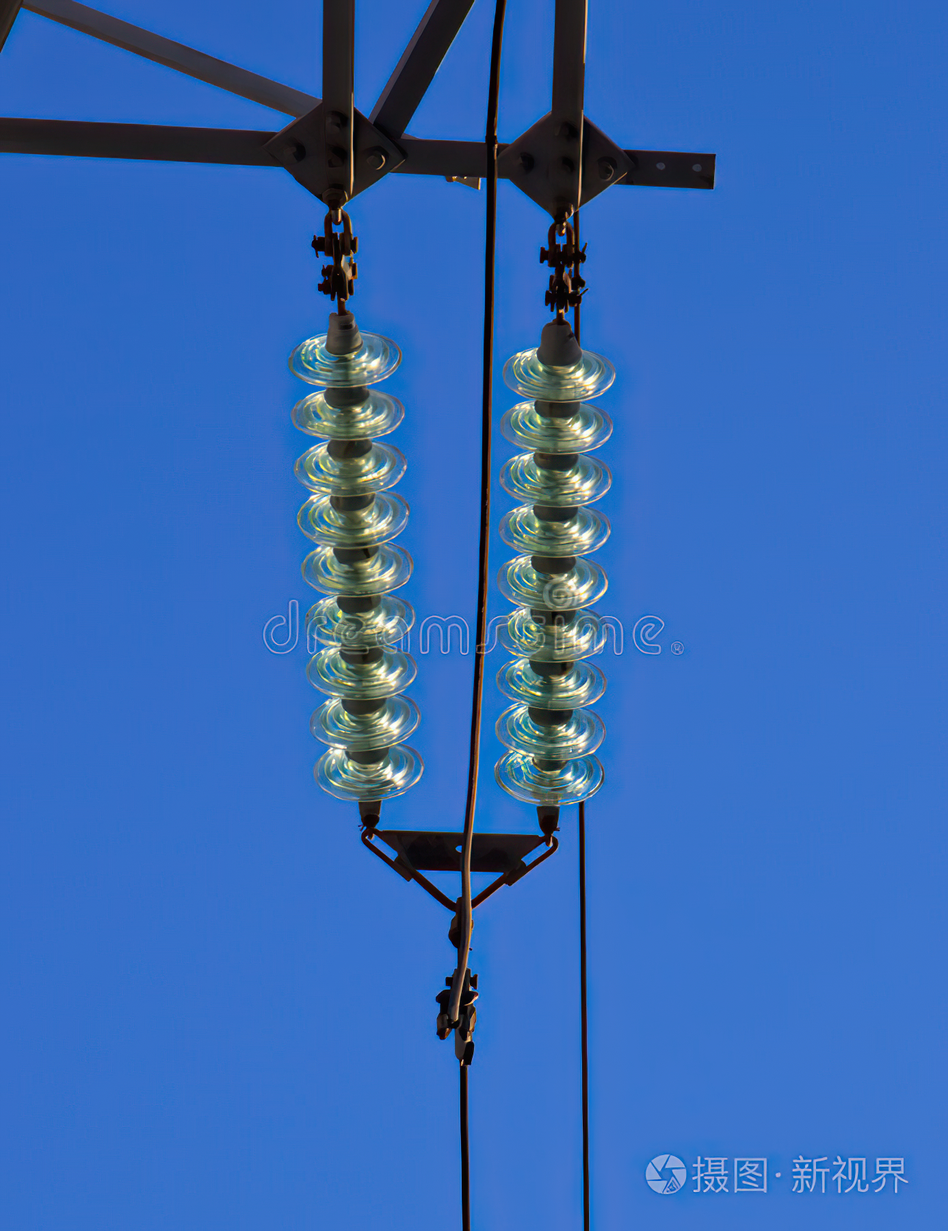insulator: (287, 332, 426, 806), (497, 347, 618, 819)
